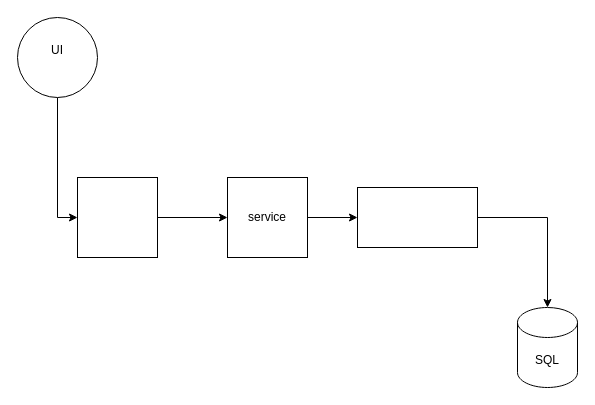
Some shapes in this 595 by 405 pixel diagram are drawn without their labels. The shapes that lost their labels are listed below. From the top down, each one's centre as x and y in pixels, then its label:
At (117,217): "controller".
At (417,217): "repository".
